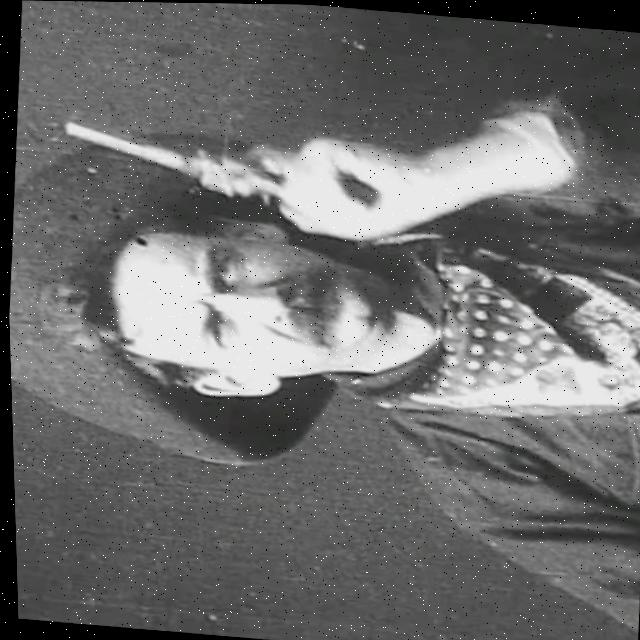pistol: (53, 113, 300, 206)
